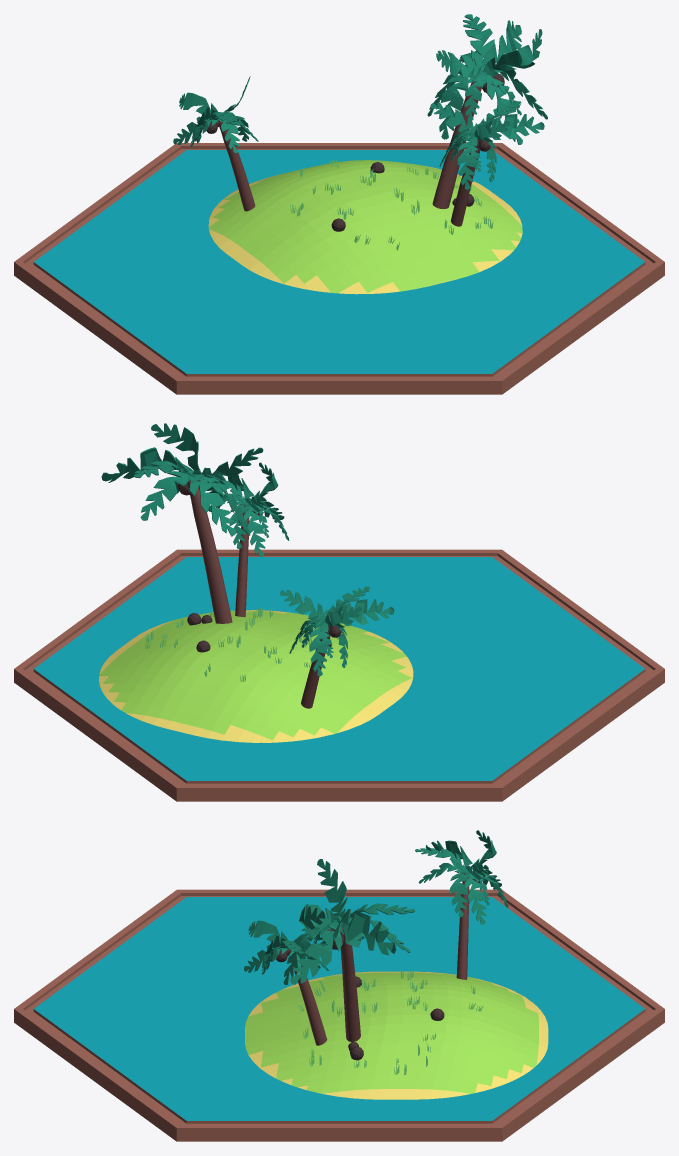
Rendered from Hexagon_island.glb.
3 renders of one model, top to bottom at view 1: azimuth 30°, elevation 25°; view 2: azimuth 150°, elevation 25°; view 3: azimuth 270°, elevation 25°, orthographic.
Visible parts, largest first — view 1: Circle, Plane, Cylinder, Cylinder.001, Cylinder.002, Plane.017; view 2: Circle, Plane, Cylinder, Cylinder.002, Cylinder.001, Plane.017; view 3: Circle, Plane, Cylinder, Cylinder.002, Cylinder.001, Plane.017.
Boxes of the visible parts, <box> form: Circle: <box>14,143,664,394</box>; Plane: <box>208,160,522,294</box>; Cylinder: <box>427,14,547,208</box>; Cylinder.001: <box>430,101,544,226</box>; Cylinder.002: <box>173,76,258,211</box>; Plane.017: <box>290,160,493,250</box>; Circle: <box>14,549,664,801</box>; Plane: <box>99,610,413,742</box>; Cylinder: <box>101,423,263,623</box>; Cylinder.002: <box>280,586,394,708</box>; Cylinder.001: <box>207,462,289,616</box>; Plane.017: <box>145,606,341,682</box>; Circle: <box>14,889,664,1141</box>; Plane: <box>245,971,548,1099</box>; Cylinder: <box>283,859,415,1041</box>; Cylinder.002: <box>415,830,508,979</box>; Cylinder.001: <box>244,905,328,1045</box>; Plane.017: <box>297,969,483,1075</box>.
Bounding box in the file's own units: 30.17 × 12.22 × 34.84.
Materials: 2 (2 with a texture image).
